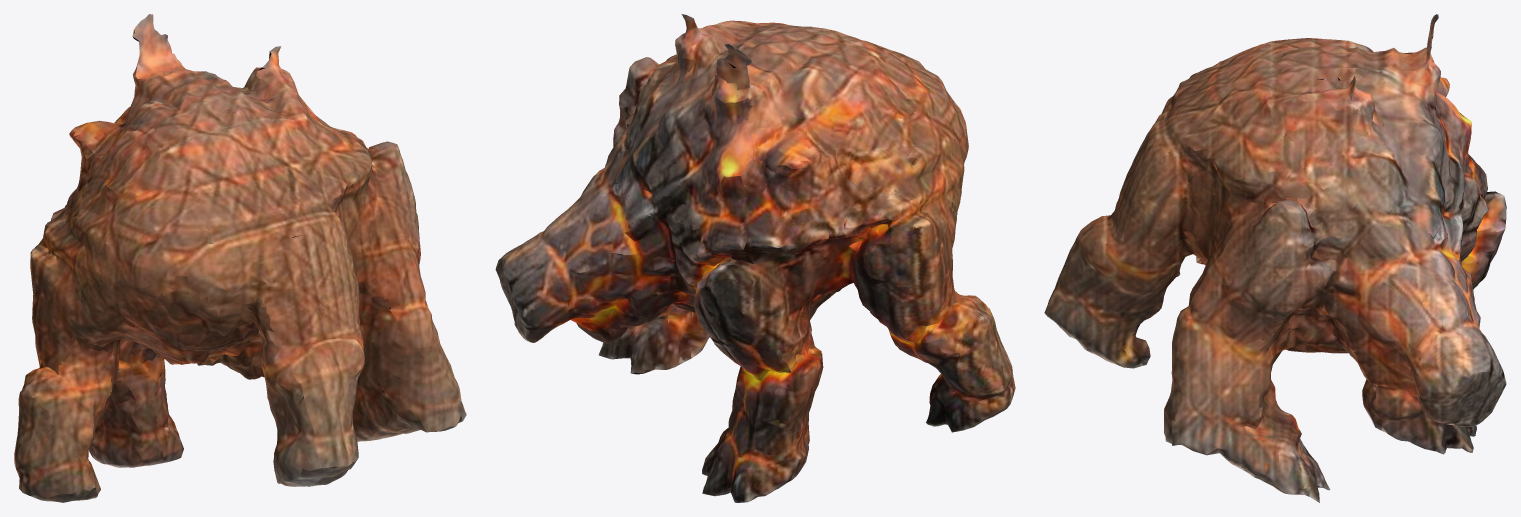
Rendered from titanforge_juggernaut_behemoth_1792778756962.glb.
3 renders of one model, left to right at view 1: azimuth 30°, elevation 25°; view 2: azimuth 150°, elevation 25°; view 3: azimuth 270°, elevation 25°, orthographic.
Parts seen in each view (by area): view 1: geometry_0; view 2: geometry_0; view 3: geometry_0.
Part boxes in pixels (x1,y1,x2,y2): geometry_0: [14, 14, 466, 502]; geometry_0: [495, 14, 1015, 502]; geometry_0: [1044, 14, 1506, 502].
Bounding box in the file's own units: 0.8511 × 0.8315 × 0.8012.
1 material, 1 textured.
